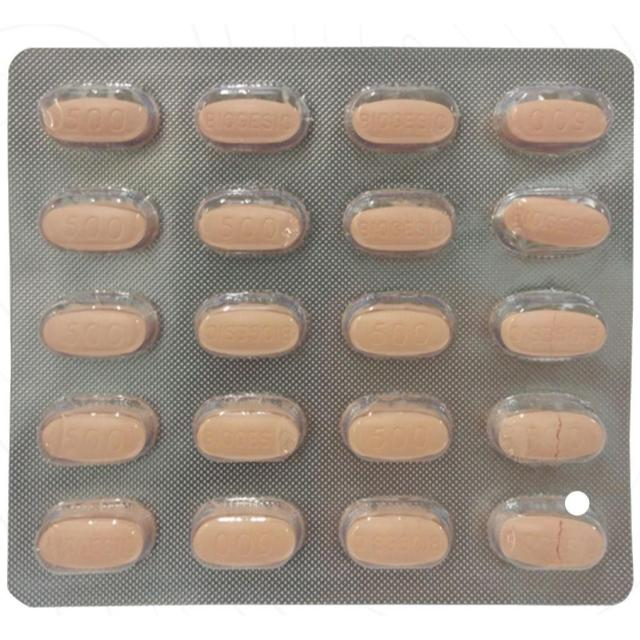blister: (7, 32, 638, 616)
